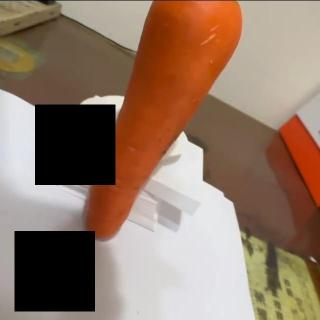carrot: (81, 0, 244, 240)
